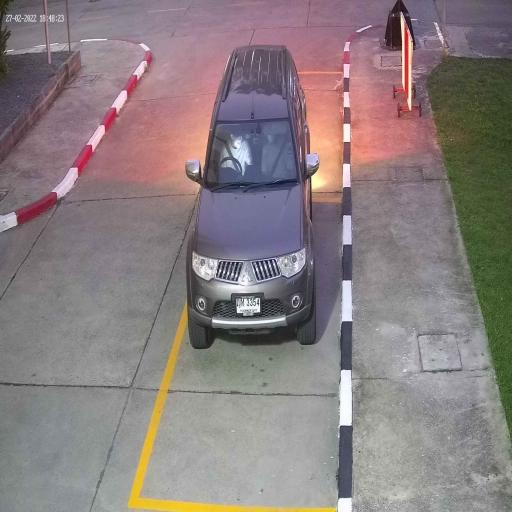car: (186, 44, 317, 350)
